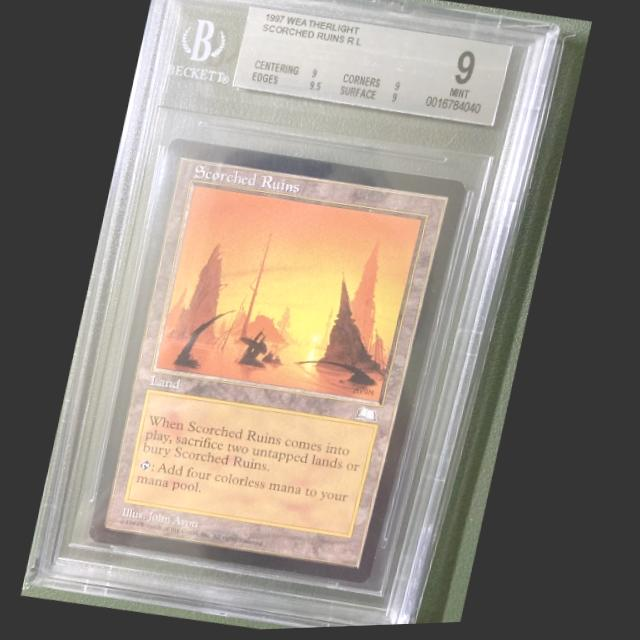bgs_label: (233, 9, 512, 130)
bgs_slab: (31, 0, 561, 630)
card: (90, 136, 472, 587)
